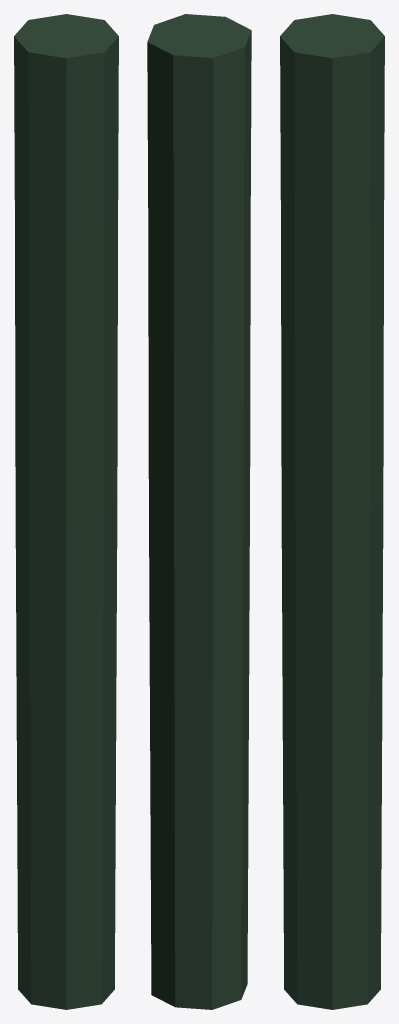
The model's file is dandelion_stem.glb.
3 views of the same model, side by side, from view 1: azimuth 90°, elevation 25°; view 2: azimuth 150°, elevation 25°; view 3: azimuth 270°, elevation 25° (orthographic).
Parts seen in each view (by area): view 1: dandelion_stem; view 2: dandelion_stem; view 3: dandelion_stem.
Boxes of the visible parts, box(x1,y1,x2,y2) form: dandelion_stem: box(14, 14, 118, 1009); dandelion_stem: box(147, 14, 251, 1009); dandelion_stem: box(280, 14, 384, 1009).
Size of the model in its own units: 0.0648 by 0.6492 by 0.0648.
